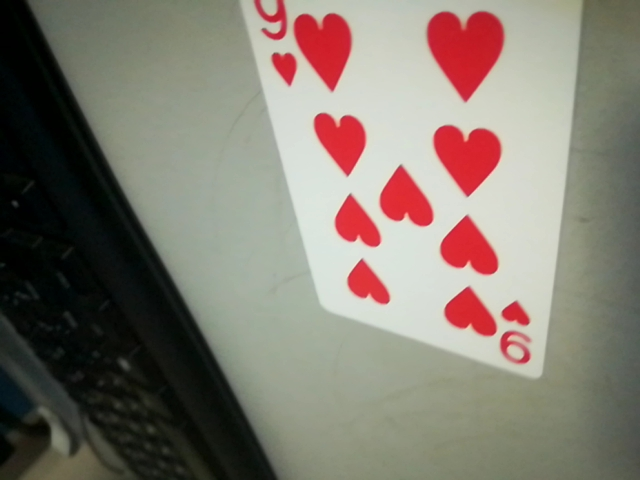hx 9: (489, 299, 543, 371)
